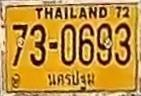0: (60, 24, 75, 64)
3: (114, 22, 130, 64), (29, 24, 45, 65)
6: (78, 24, 93, 64)
7: (12, 24, 27, 66)
9: (96, 22, 112, 64)
NPT: (44, 69, 95, 91)
